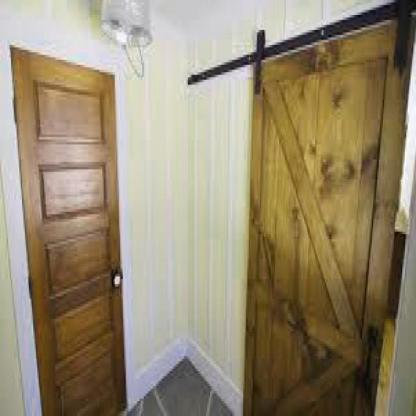door: (237, 0, 405, 411), (1, 20, 145, 414)
